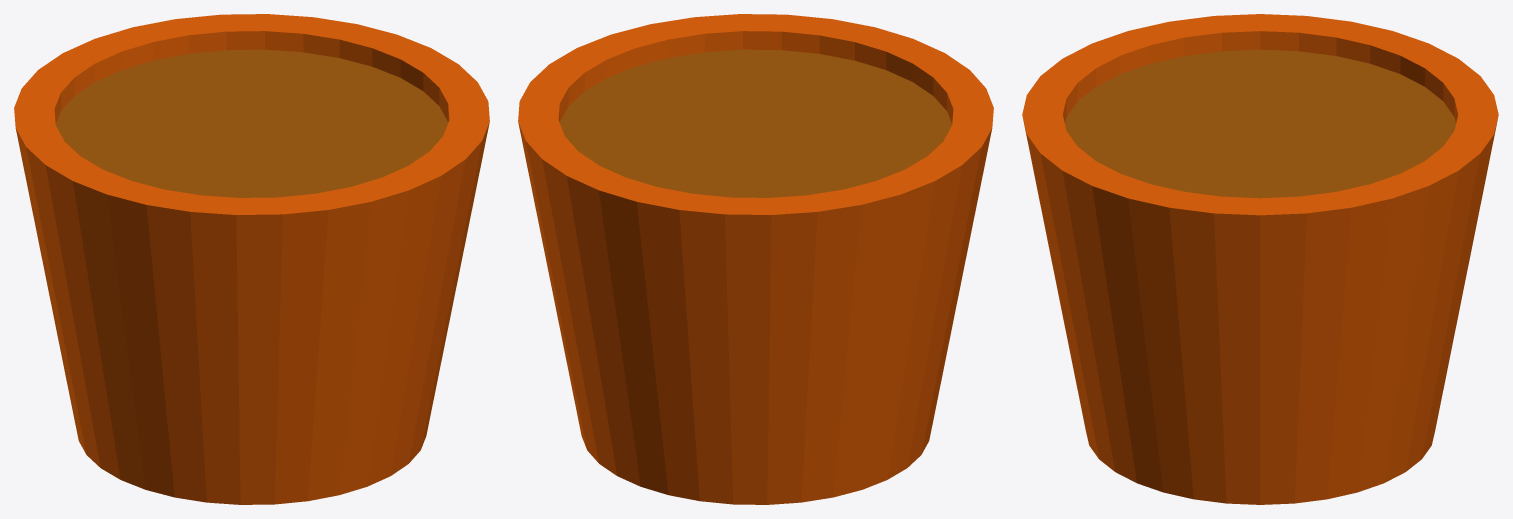
File: plant_empty.fbx
3 views of the same model, side by side, from view 1: azimuth 30°, elevation 25°; view 2: azimuth 150°, elevation 25°; view 3: azimuth 270°, elevation 25° (orthographic).
Visible parts, largest first — view 1: Pot.001; view 2: Pot.001; view 3: Pot.001.
Boxes of the visible parts, <box> form: Pot.001: <box>14,14,489,504</box>; Pot.001: <box>518,14,993,504</box>; Pot.001: <box>1022,14,1498,504</box>.
Bounding box in the file's own units: 46.31 × 33.94 × 46.31.
